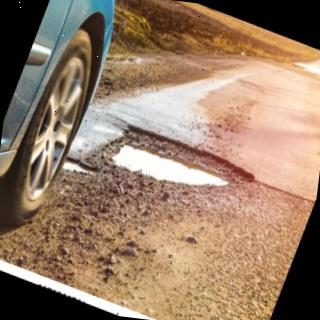pothole: (94, 124, 253, 205)
